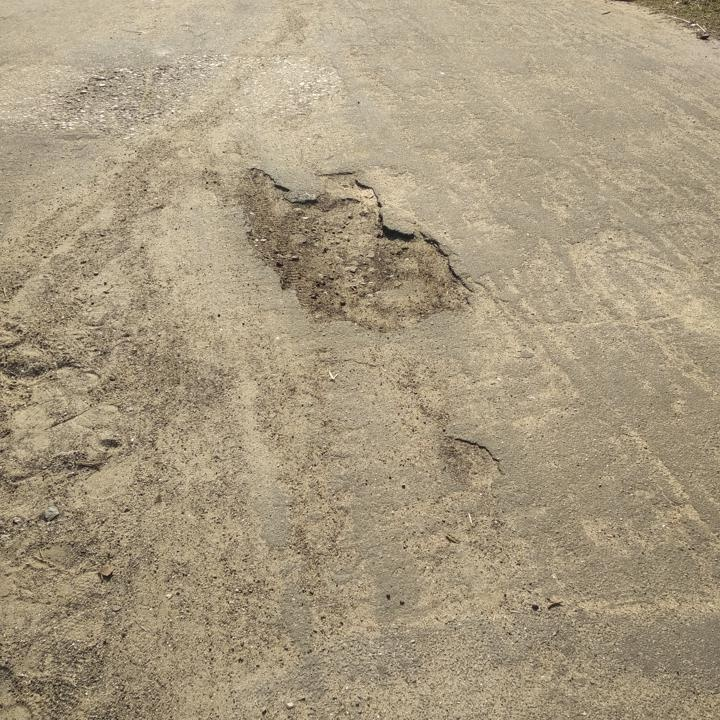pothole: (233, 162, 478, 333), (439, 431, 504, 490)
